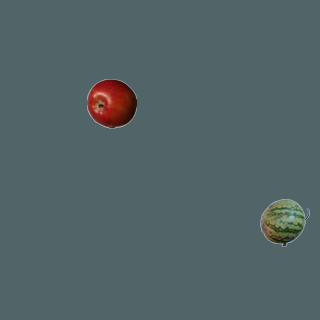Apple Braeburn: (86, 78, 136, 128)
Watermelon: (259, 197, 309, 247)
